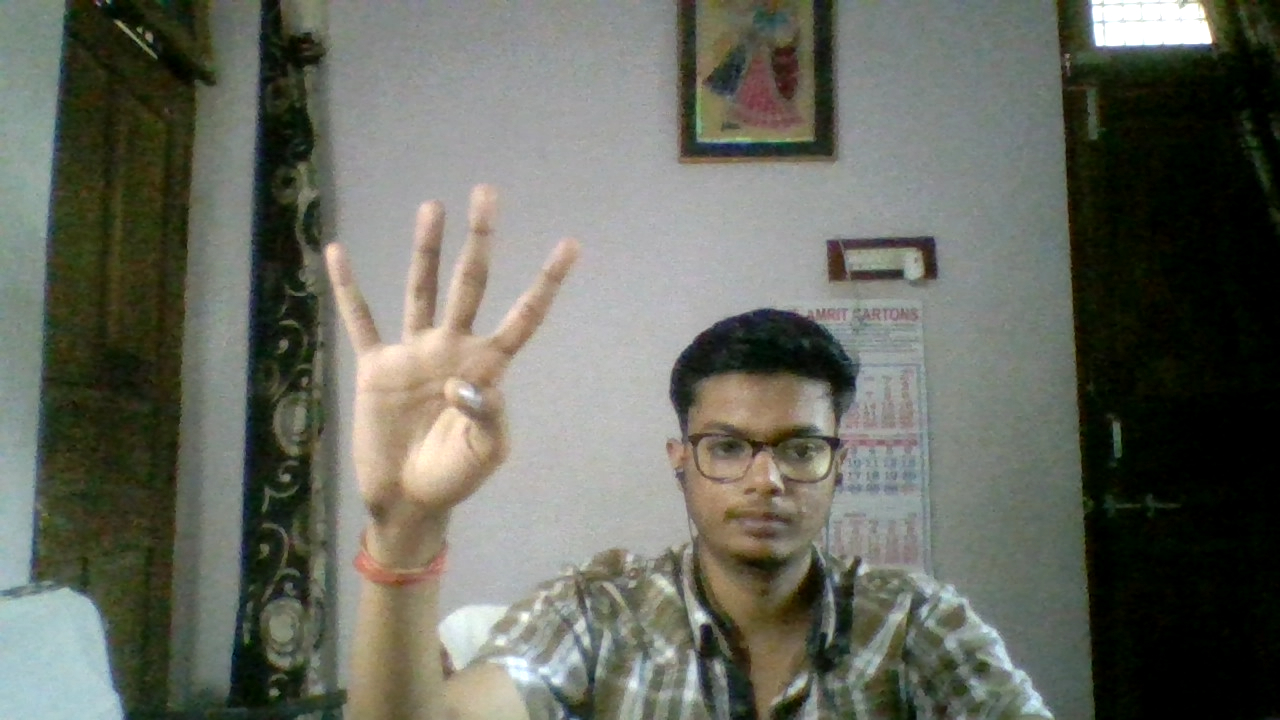four: (307, 171, 593, 548)
